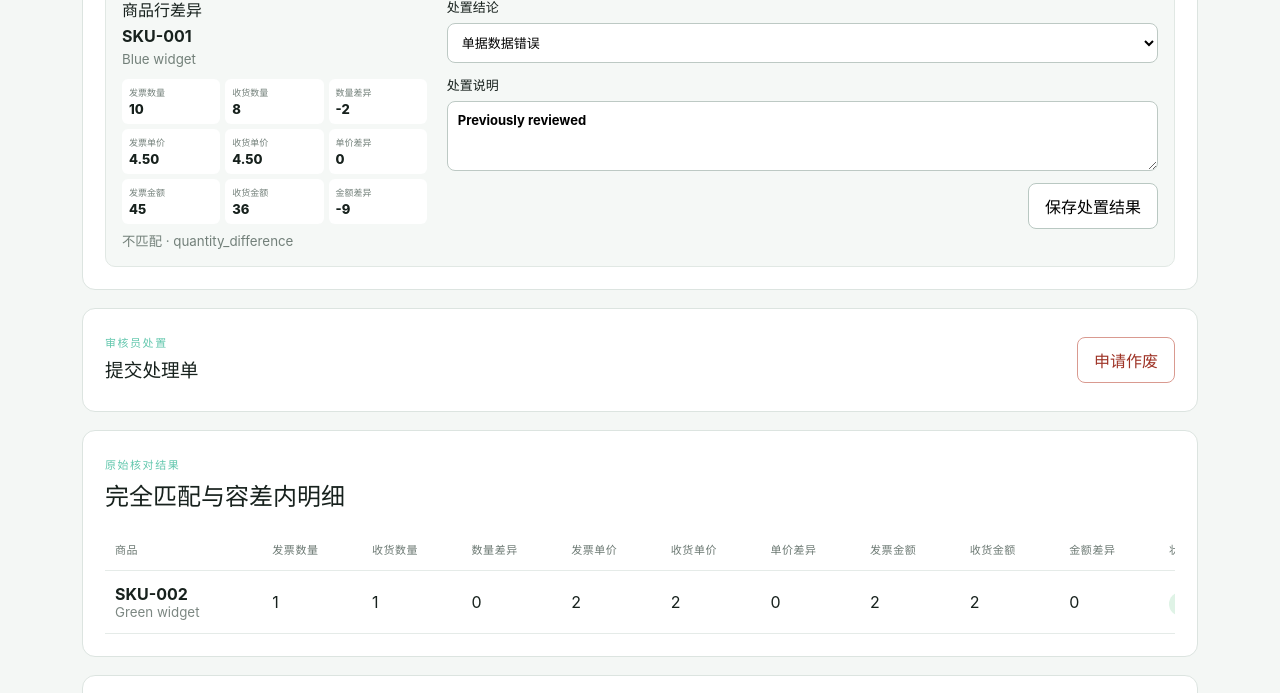
Test case: CaseDetailPage reviewer workflow › submits document and matching errors only for void
This screenshot has width=1280, height=693.
(page scrolled)
Click the button "申请作废".
click(1126, 360)  # box [1077,337,1175,383]
(page scrolled)
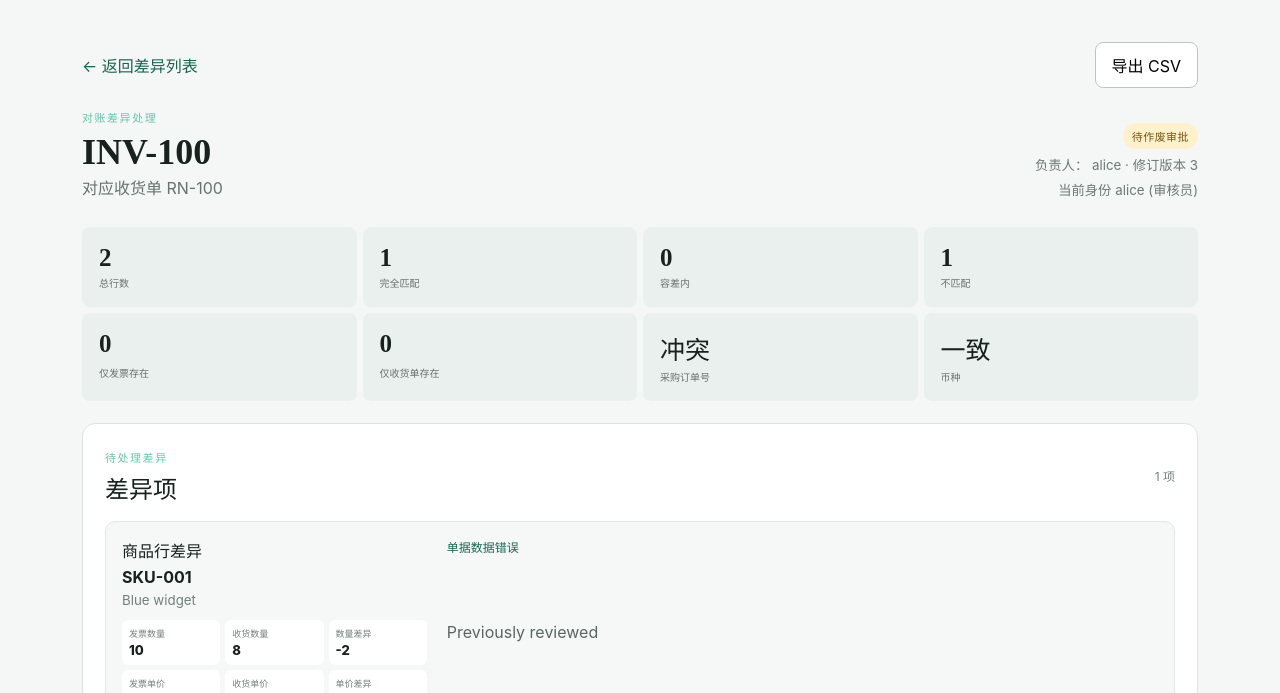
Expected: the text "待作废审批" is shown, [1123,123,1198,149]
